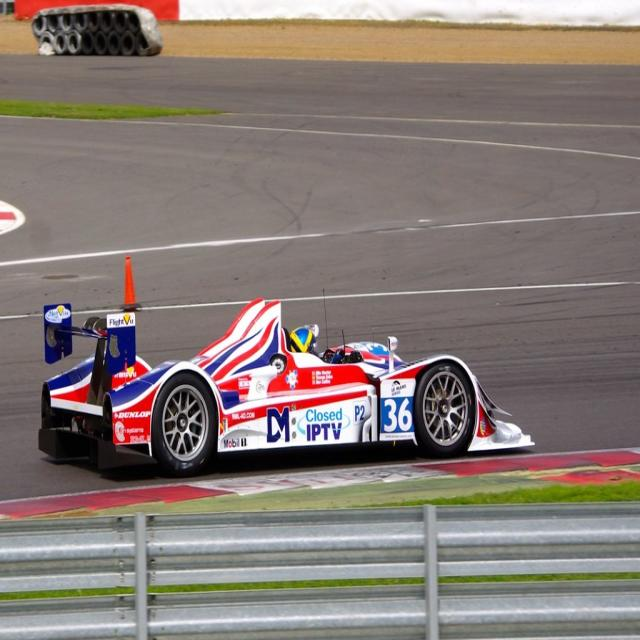car: (38, 309, 536, 475)
